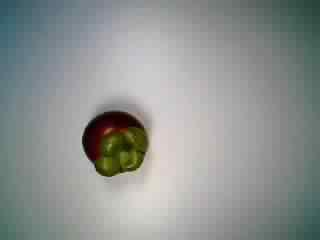mangosteen: (75, 105, 153, 178)
